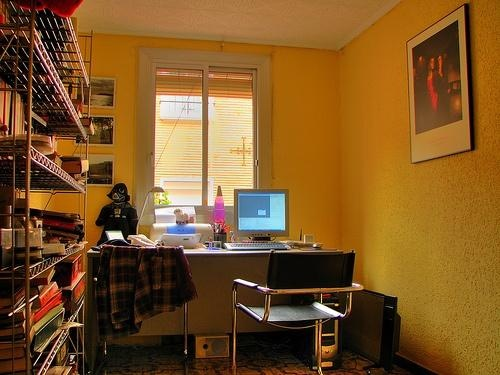chair: (232, 252, 365, 375)
tvmonitor: (235, 190, 291, 243)
